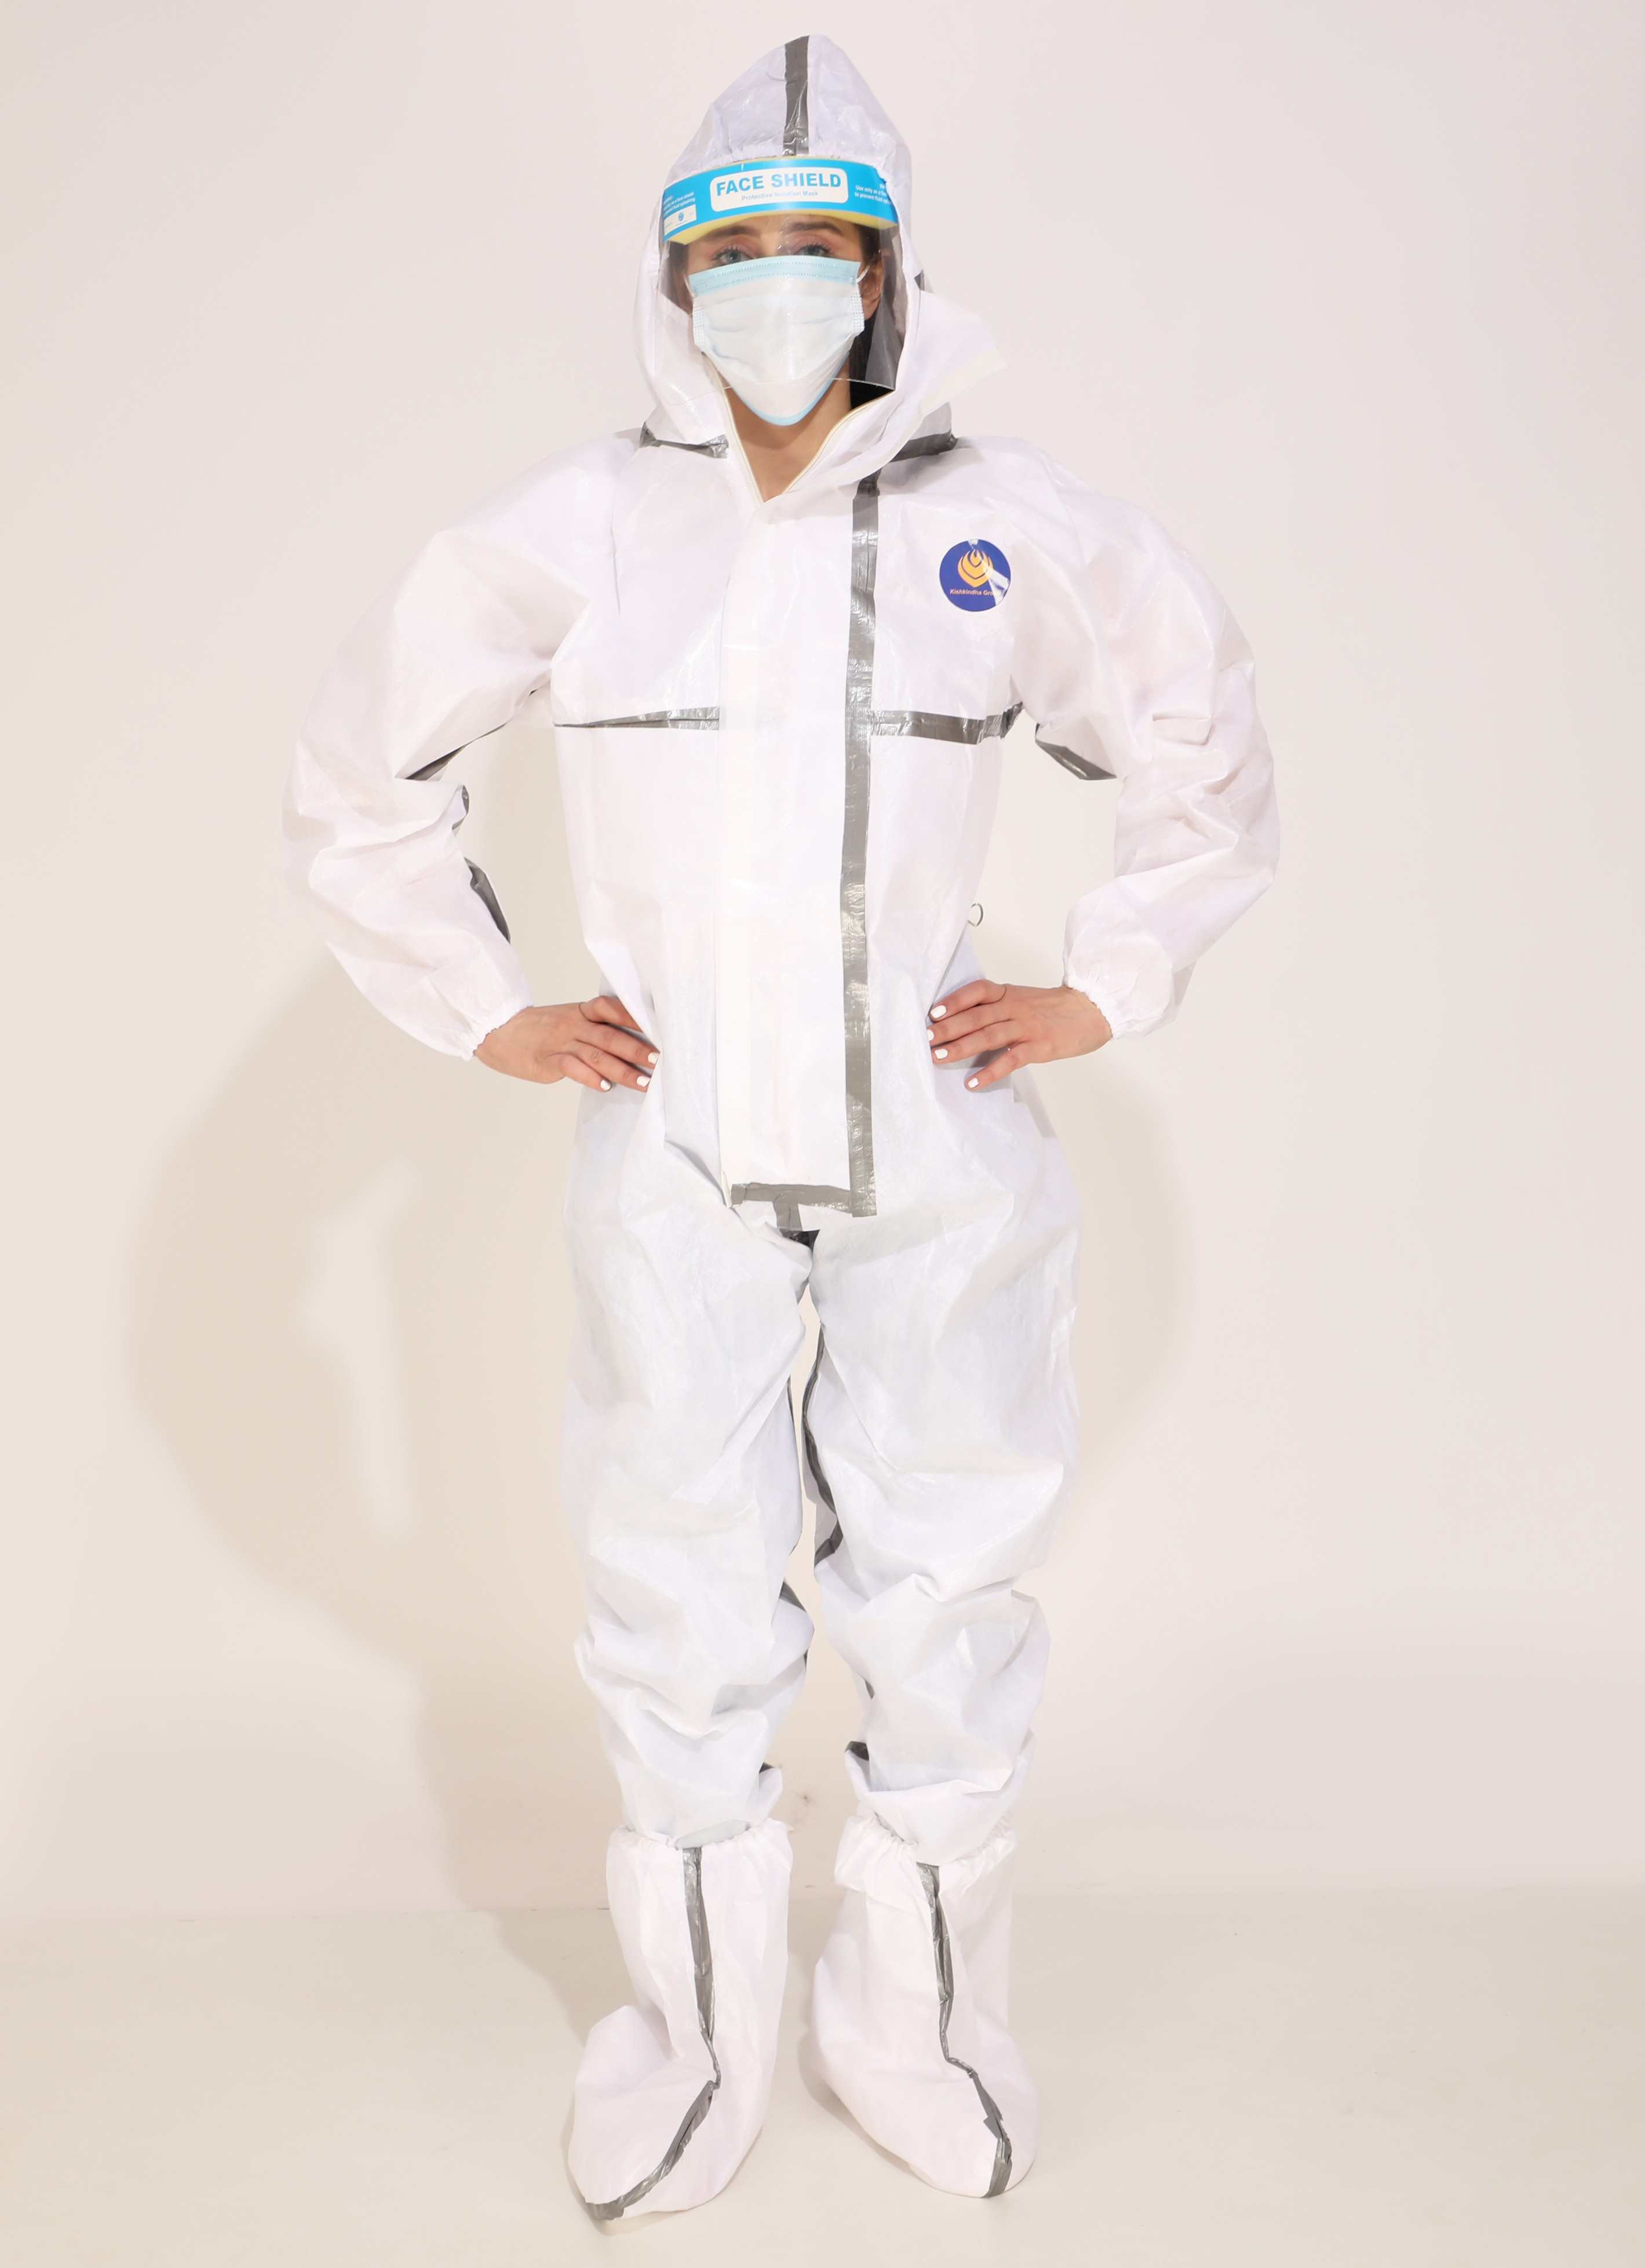Coverall: (278, 16, 1306, 2247)
Face_Shield: (633, 151, 910, 521)
with_mask: (681, 212, 859, 441)
